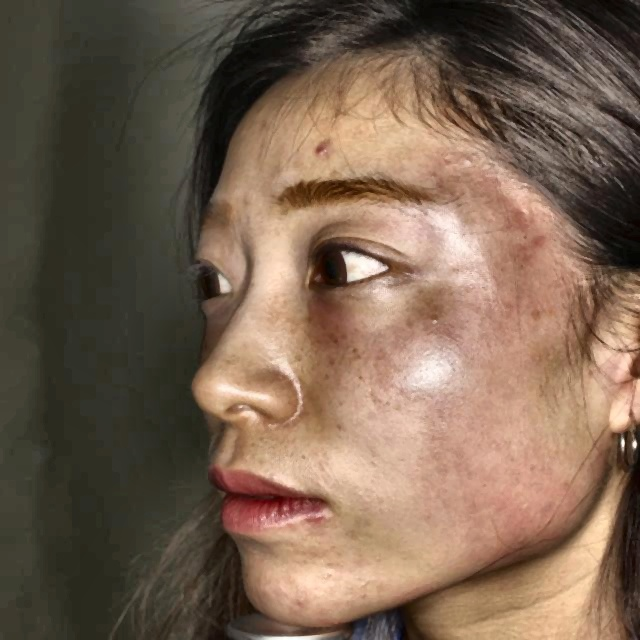comedone: (312, 133, 342, 158), (290, 588, 320, 610), (323, 608, 342, 631)
